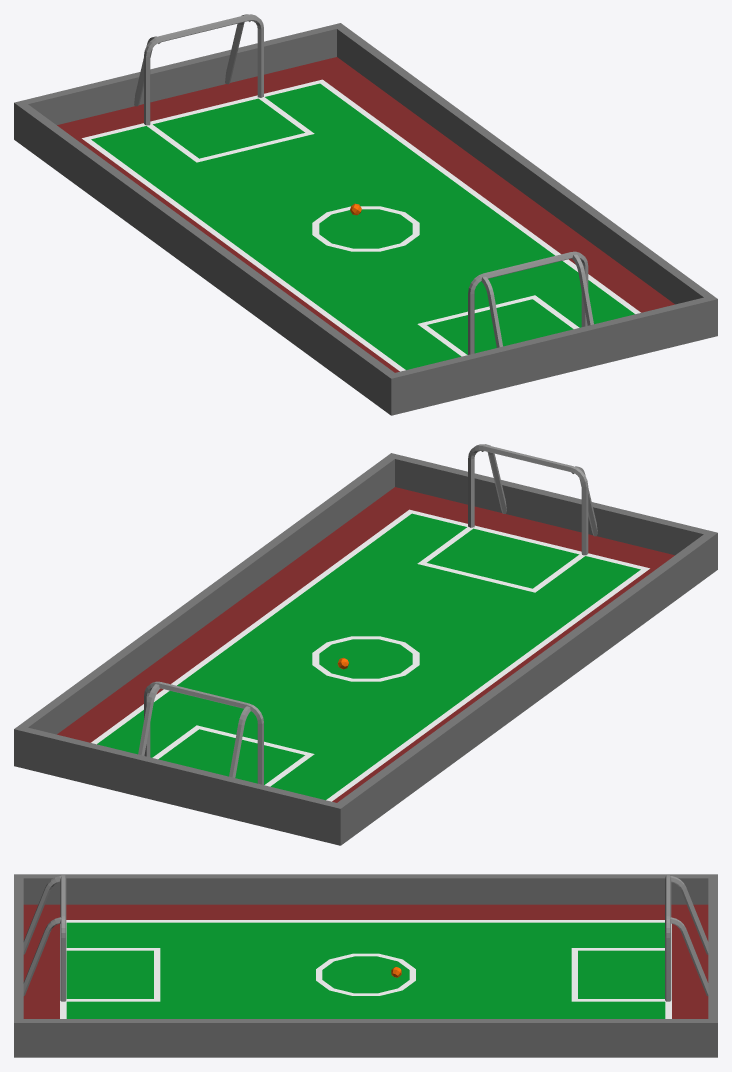
File: Futsal Court.FBX
3 renders of one model, top to bottom at view 1: azimuth 30°, elevation 25°; view 2: azimuth 150°, elevation 25°; view 3: azimuth 270°, elevation 25°, orthographic. The views are drawn at different scales.
Visible parts, largest first — view 1: Futsal court; view 2: Futsal court; view 3: Futsal court.
Boxes of the visible parts, bbox=[...] form: Futsal court: bbox=[14, 14, 717, 415]; Futsal court: bbox=[14, 444, 717, 845]; Futsal court: bbox=[14, 874, 717, 1057].
Bounding box in the file's own units: 276 × 75.04 × 551.
Materials: 1 (1 with a texture image).
